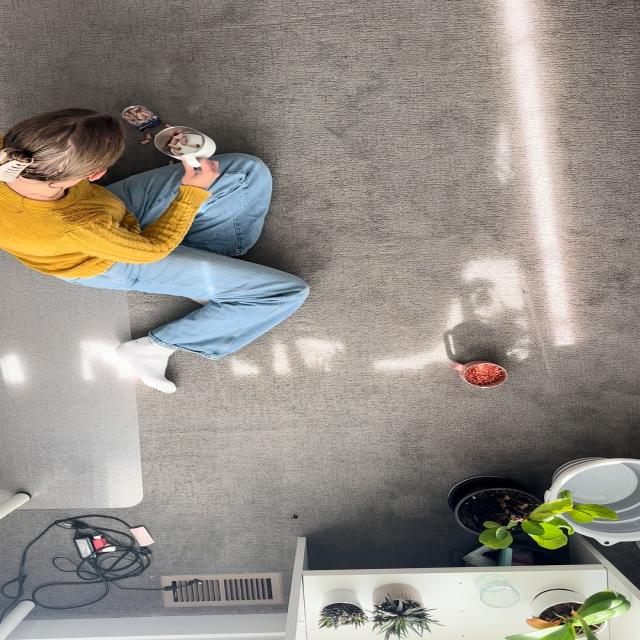IBC: (154, 126, 216, 168), (450, 360, 507, 388)
